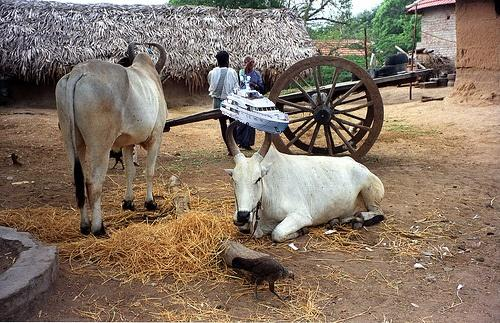tampered: (221, 75, 289, 134)
